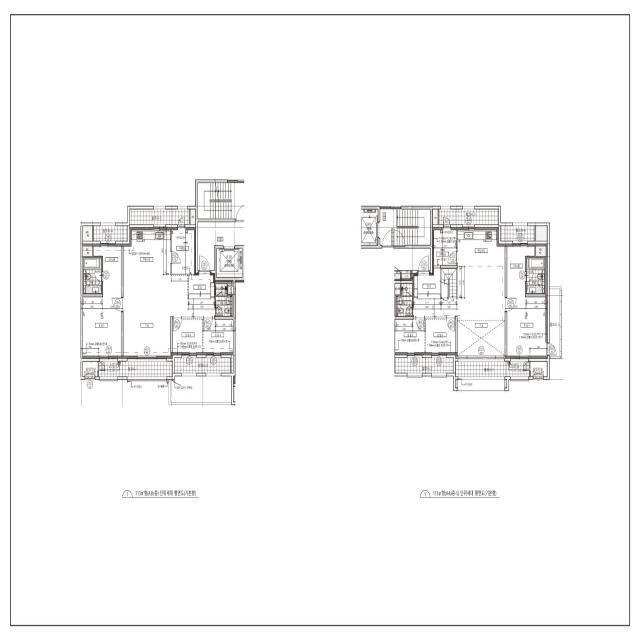space_balconi: (98, 362, 172, 377), (456, 362, 529, 377), (130, 209, 189, 224), (439, 209, 498, 224), (395, 358, 453, 373), (175, 358, 230, 373), (550, 289, 560, 357), (93, 226, 127, 241), (501, 226, 535, 241)
space_bedroom: (507, 297, 547, 358), (83, 297, 121, 358), (173, 319, 203, 355), (395, 320, 425, 355), (204, 319, 233, 355), (426, 319, 455, 355)
space_dressroom: (93, 244, 121, 297), (507, 244, 535, 297)
space_elevator: (217, 249, 242, 277), (361, 209, 380, 245)
space_elevator_hall: (198, 222, 244, 270), (361, 249, 430, 270)
space_front: (414, 268, 440, 299), (189, 272, 215, 299)
space_kitchen: (123, 227, 171, 298), (457, 228, 505, 275)
space_living_room: (123, 275, 215, 358), (414, 275, 505, 356)
space_multipurpose_space: (172, 227, 196, 274), (433, 228, 456, 265)
space_other: (536, 226, 547, 241), (83, 226, 92, 241), (536, 244, 547, 256), (83, 244, 92, 256), (190, 209, 196, 224), (433, 209, 438, 224), (228, 284, 233, 295), (395, 284, 400, 295)
space_outdoor_room: (531, 362, 547, 377), (83, 362, 98, 377)
space_staircase: (380, 209, 430, 245), (198, 183, 244, 220), (441, 269, 456, 299)
space_toilet: (527, 258, 545, 294), (216, 284, 233, 316), (396, 284, 412, 316)
